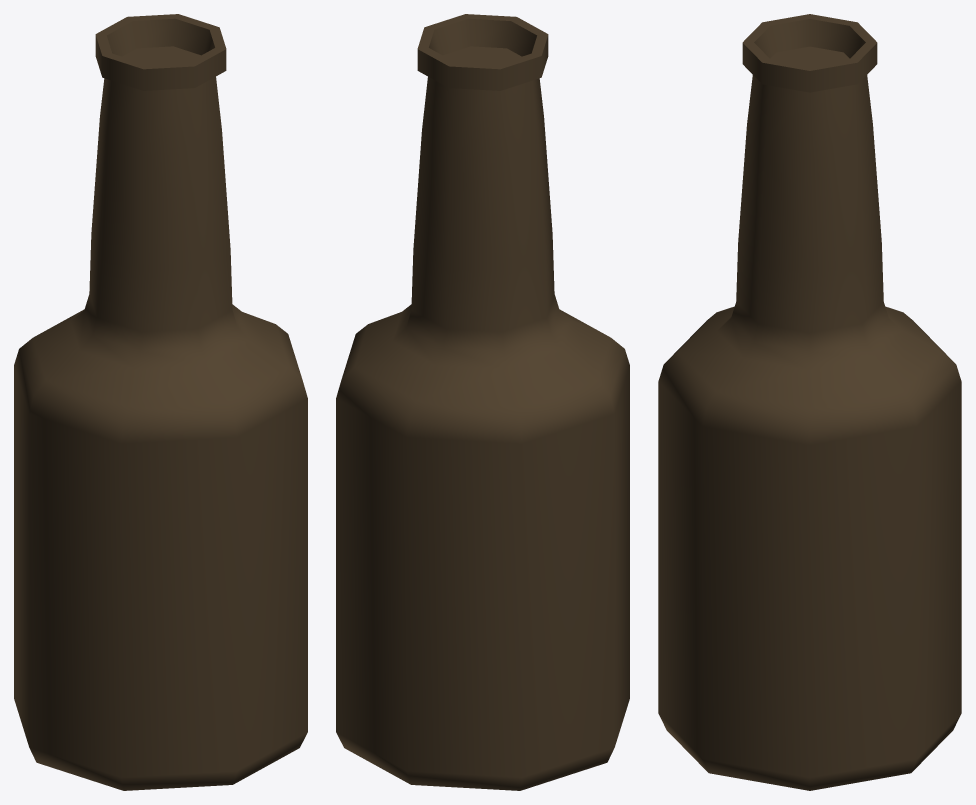
Rendered from PS_BeerBottle03.fbx.
The picture shows the model from 3 angles, left to right: view 1: azimuth 30°, elevation 25°; view 2: azimuth 150°, elevation 25°; view 3: azimuth 270°, elevation 25°; orthographic projection.
Parts seen in each view (by area): view 1: PS_BeerBottle03; view 2: PS_BeerBottle03; view 3: PS_BeerBottle03.
Boxes of the visible parts, x1,y1,x2,y2 form: PS_BeerBottle03: (14,14,307,790); PS_BeerBottle03: (336,14,629,790); PS_BeerBottle03: (658,14,961,790).
Bounding box in the file's own units: 0.1427 × 0.3609 × 0.1427.
